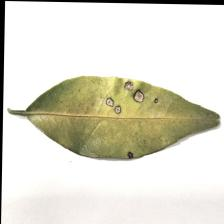canker: (74, 77, 162, 165)
